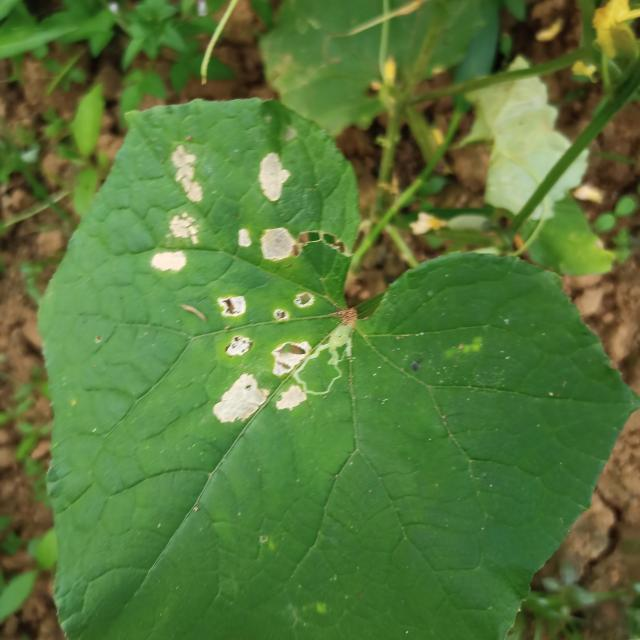disease_cucumber: (217, 293, 309, 422), (151, 147, 202, 272), (240, 153, 295, 263)
